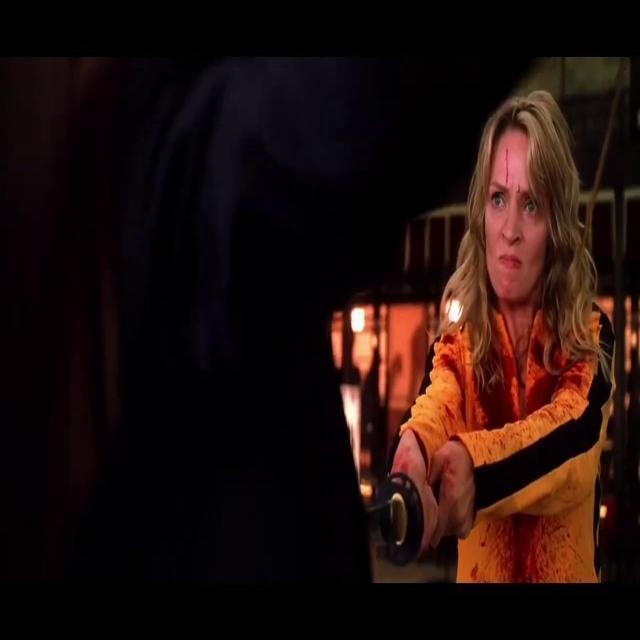flood: (468, 314, 566, 586), (494, 130, 526, 192)
